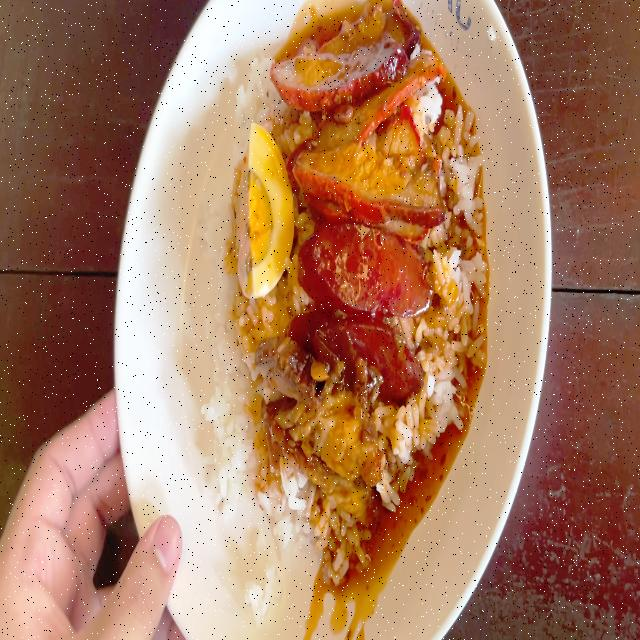boiled_egg: (238, 142, 286, 296)
chainese_sausage: (307, 231, 430, 380)
crispy_pork: (267, 394, 378, 499), (261, 341, 313, 467)
red_pork: (287, 27, 443, 206)
red_pork_and_crispy_pork: (192, 29, 452, 502)
rice: (204, 304, 258, 508), (376, 403, 456, 499)
